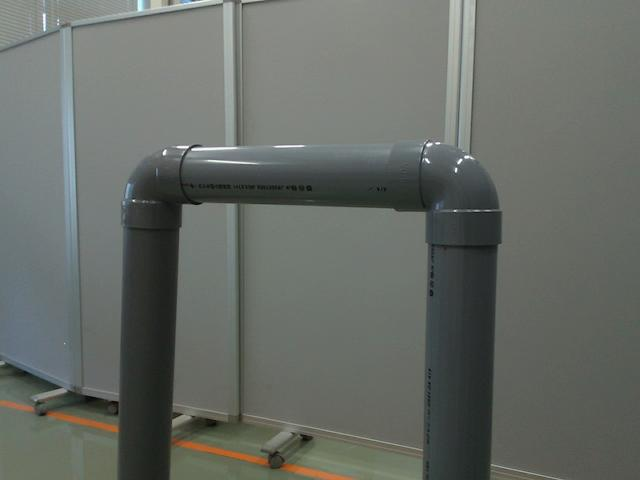bent: (390, 140, 498, 249), (118, 141, 204, 230)
